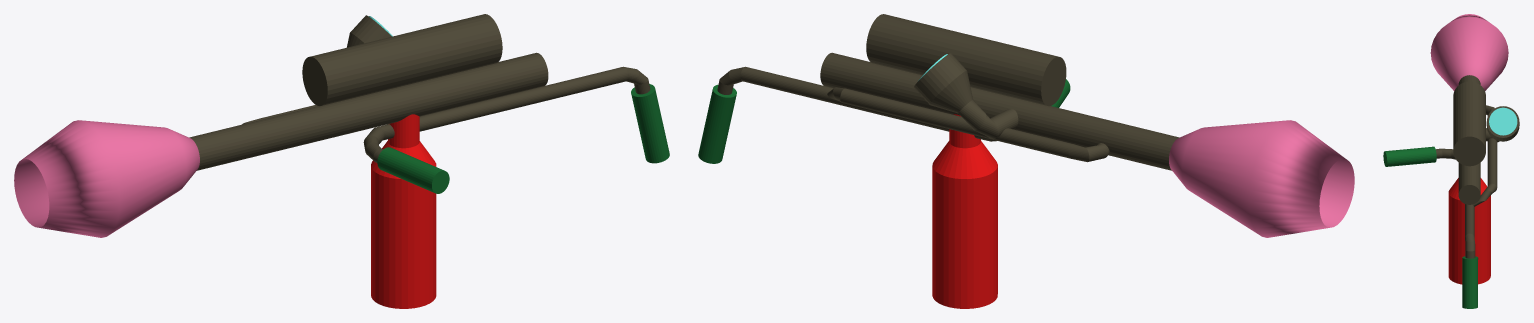
The model's file is FlameThrower.fbx.
The picture shows the model from 3 angles, left to right: view 1: azimuth 30°, elevation 25°; view 2: azimuth 150°, elevation 25°; view 3: azimuth 270°, elevation 25°; orthographic projection. The views are drawn at different scales.
Visible parts, largest first — view 1: Cylinder.006, Cylinder.002, Cylinder.003, Cylinder, Cylinder.001, Cylinder.007, Cylinder.008, Cylinder.004; view 2: Cylinder.006, Cylinder, Cylinder.002, Cylinder.003, Cylinder.005, Cylinder.004, Cylinder.001, Cylinder.007; view 3: Cylinder.006, Cylinder, Cylinder.003, Cylinder.002, Cylinder.008, Cylinder.007, Cylinder.005, Cylinder.001, Cylinder.009, Cylinder.004.
Part boxes in pixels (x1=…): Cylinder.006: x1=14, y1=120, x2=199, y2=237; Cylinder.002: x1=189, y1=52, x2=548, y2=170; Cylinder.003: x1=302, y1=14, x2=502, y2=106; Cylinder: x1=371, y1=114, x2=436, y2=308; Cylinder.001: x1=363, y1=66, x2=650, y2=162; Cylinder.007: x1=631, y1=84, x2=669, y2=163; Cylinder.008: x1=377, y1=147, x2=449, y2=193; Cylinder.004: x1=347, y1=15, x2=391, y2=47; Cylinder.006: x1=1169, y1=120, x2=1354, y2=237; Cylinder: x1=932, y1=114, x2=997, y2=308; Cylinder.002: x1=820, y1=52, x2=1179, y2=170; Cylinder.003: x1=866, y1=14, x2=1066, y2=106; Cylinder.005: x1=827, y1=87, x2=1109, y2=162; Cylinder.004: x1=914, y1=53, x2=1018, y2=138; Cylinder.001: x1=717, y1=66, x2=996, y2=141; Cylinder.007: x1=698, y1=84, x2=736, y2=163; Cylinder.006: x1=1430, y1=14, x2=1508, y2=90; Cylinder: x1=1448, y1=178, x2=1490, y2=284; Cylinder.003: x1=1453, y1=81, x2=1485, y2=166; Cylinder.002: x1=1458, y1=75, x2=1480, y2=204; Cylinder.008: x1=1383, y1=146, x2=1436, y2=166; Cylinder.007: x1=1462, y1=256, x2=1478, y2=308; Cylinder.005: x1=1472, y1=105, x2=1497, y2=206; Cylinder.001: x1=1435, y1=148, x2=1475, y2=258; Cylinder.009: x1=1489, y1=107, x2=1517, y2=135; Cylinder.004: x1=1486, y1=106, x2=1519, y2=142.
Size of the model in its own units: 3378 by 1318 by 968.
